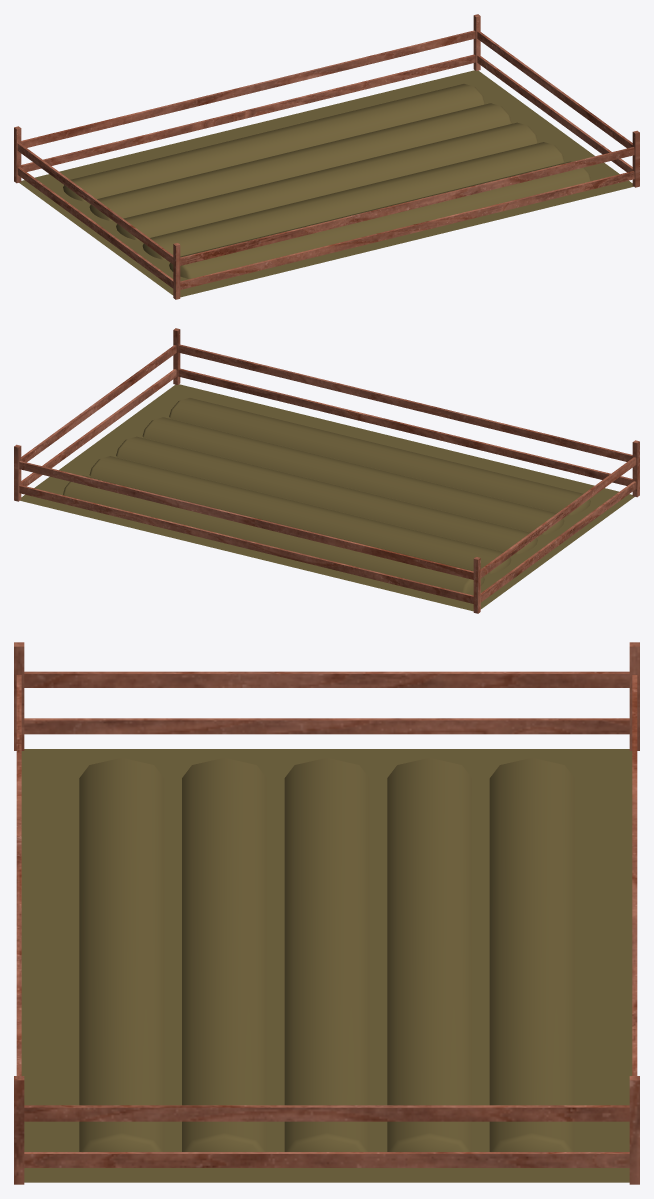
The model's file is farmland.fbx.
The picture shows the model from 3 angles, top to bottom: view 1: azimuth 30°, elevation 25°; view 2: azimuth 150°, elevation 25°; view 3: azimuth 270°, elevation 25°; orthographic projection. The views are drawn at different scales.
Visible parts, largest first — view 1: farmland_GEO; view 2: farmland_GEO; view 3: farmland_GEO.
Part boxes in pixels (left/top/right/bottom): farmland_GEO: left=14, top=14, right=639, bottom=299; farmland_GEO: left=14, top=328, right=639, bottom=613; farmland_GEO: left=14, top=642, right=639, bottom=1184.
Bounding box in the file's own units: 2020 × 234 × 1220.
